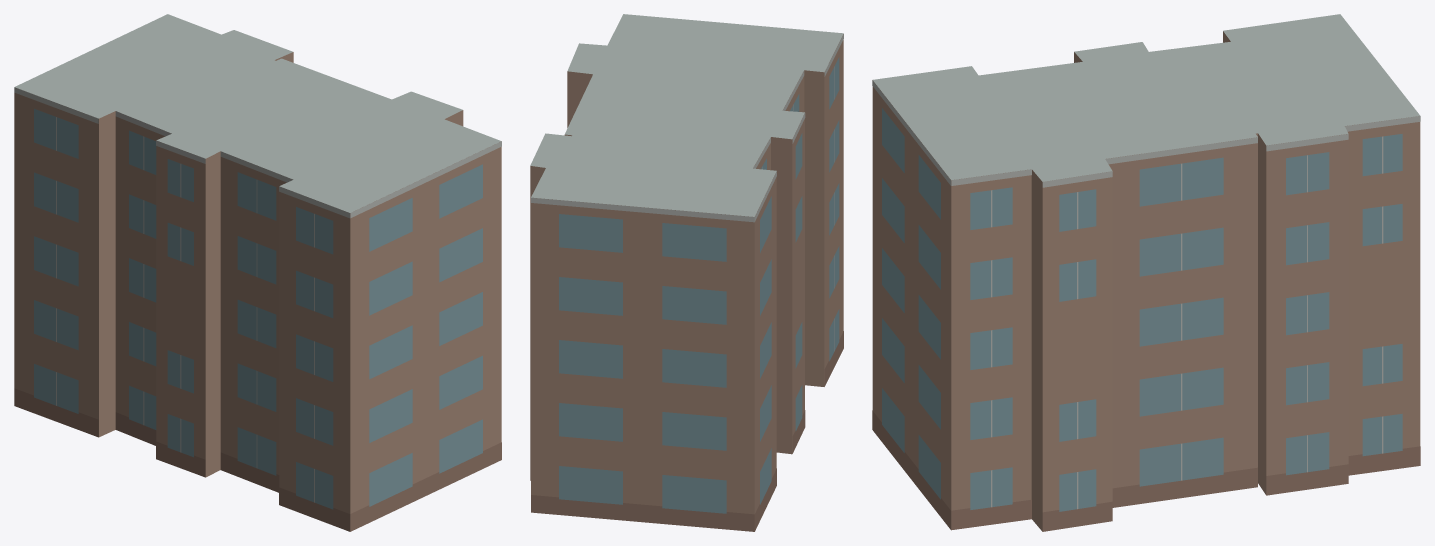
The model's file is survey-upis-32699241.glb.
The picture shows the model from 3 angles, left to right: view 1: azimuth 30°, elevation 25°; view 2: azimuth 150°, elevation 25°; view 3: azimuth 270°, elevation 25°; orthographic projection. The views are drawn at different scales.
Parts seen in each view (by area): view 1: survey-upis-32699241.tmp; view 2: survey-upis-32699241.tmp; view 3: survey-upis-32699241.tmp.
Boxes of the visible parts, <box> form: survey-upis-32699241.tmp: <box>14,14,501,531</box>; survey-upis-32699241.tmp: <box>530,14,843,531</box>; survey-upis-32699241.tmp: <box>872,14,1420,531</box>.
Bounding box in the file's own units: 14.82 × 14.4 × 20.45.
